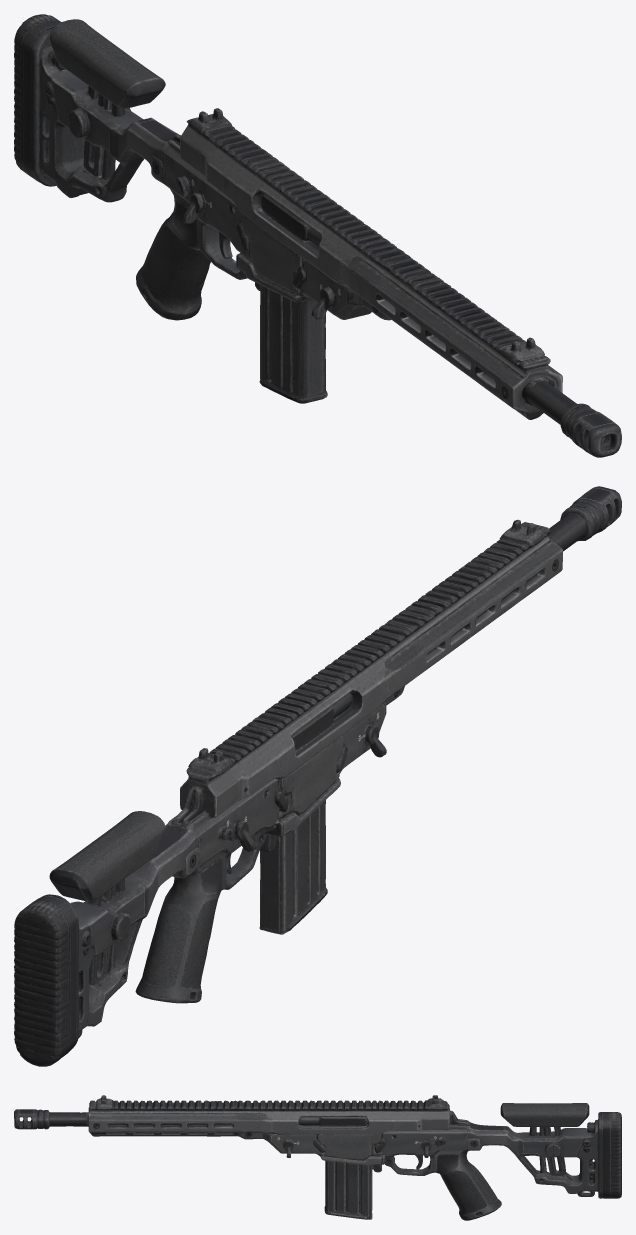
File: precision_dmr.high.glb
3 views of the same model, one above another, from view 1: azimuth 30°, elevation 25°; view 2: azimuth 150°, elevation 25°; view 3: azimuth 270°, elevation 25° (orthographic). The views are drawn at different scales.
Visible parts, largest first — view 1: model; view 2: model; view 3: model.
Boxes of the visible parts, bbox=[...] form: model: bbox=[14, 14, 621, 457]; model: bbox=[14, 486, 621, 1066]; model: bbox=[14, 1095, 621, 1220].
Bounding box in the file's own units: 0.0768 × 0.2295 × 1.05.
Materials: 1 (1 with a texture image).
